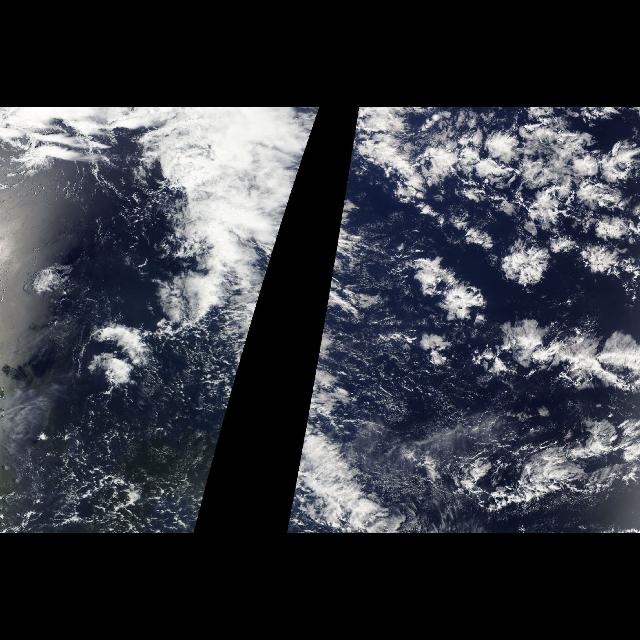Flower: (364, 108, 640, 436)
Gravel: (332, 328, 508, 477), (24, 391, 206, 534)
Sugar: (335, 318, 527, 514)
